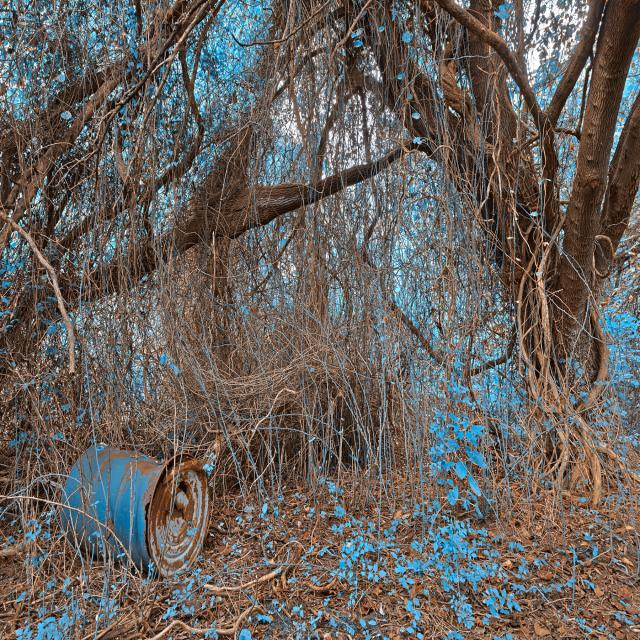metal: (63, 444, 202, 572)
